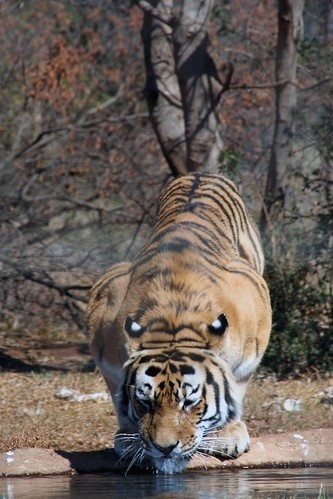tigre: (82, 169, 274, 475)
